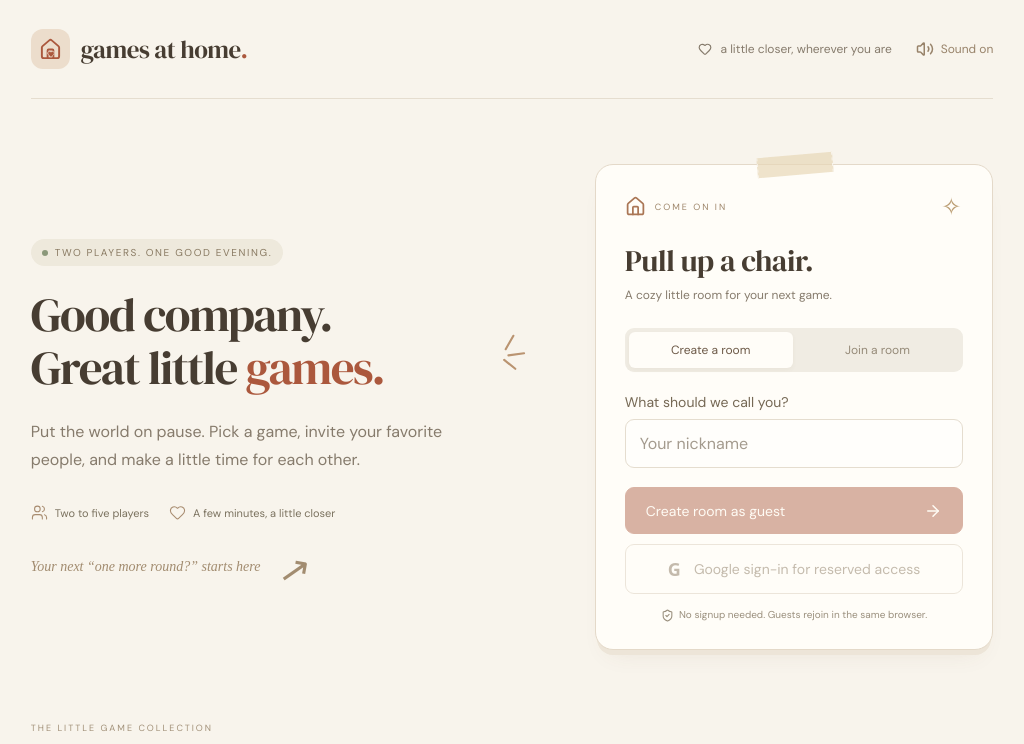
Scenario: cozy home and game forms › creates a public room with an anonymous identity and no Google popup
The width and height of the screenshot is (1024, 744).
Later steps or results of the test are not shown.
Step 1. Type "Alex" into the field labelled "What should we call you?" → (794, 444), box left=625, top=419, right=963, bottom=468
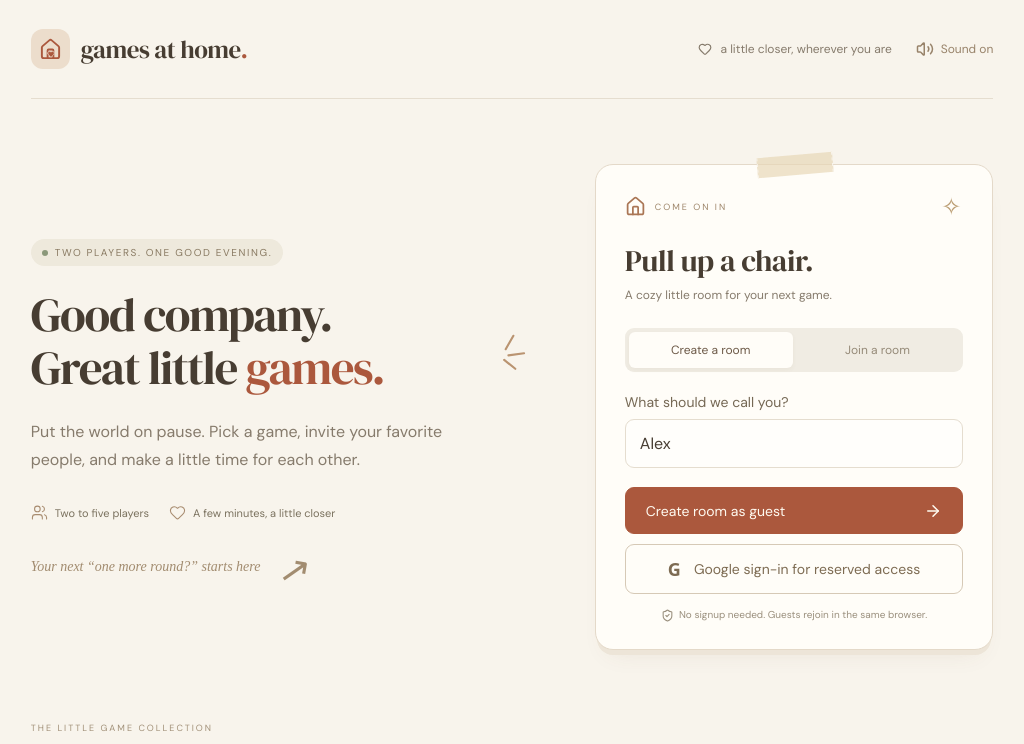
Check: the button "Create room as guest" is enabled, box left=625, top=487, right=963, bottom=534
